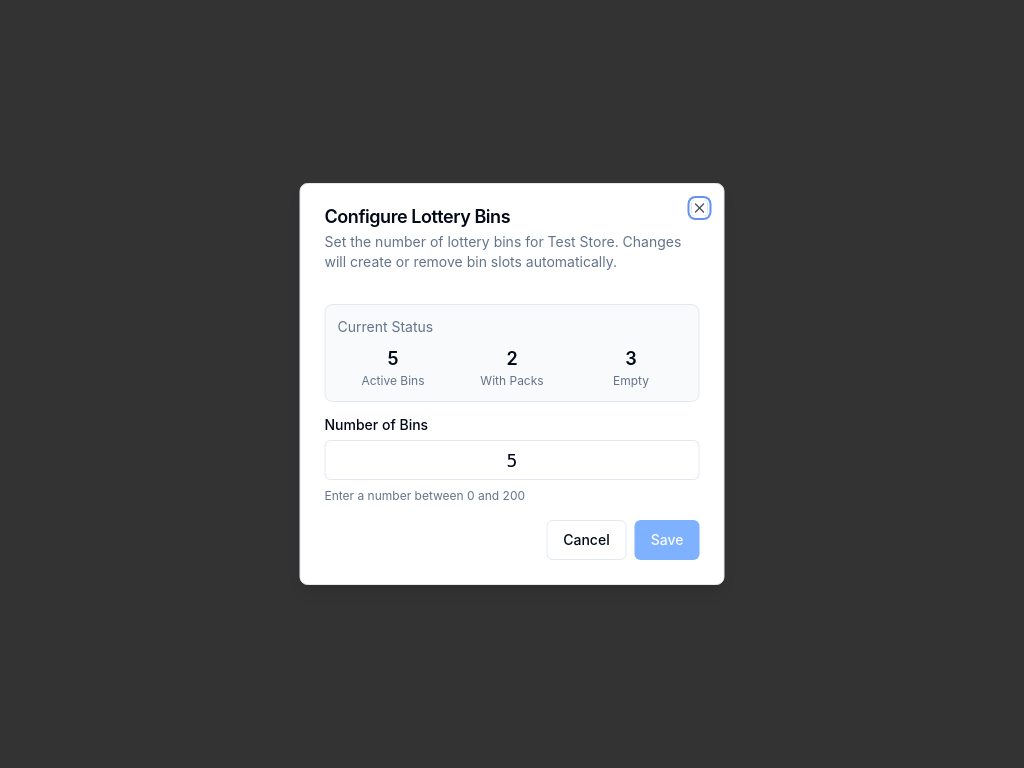
BinCountModal › Real-time Validation › should display success validation result when allowed
Replace the text in the field with test id "bin-count-input" with "10": (512, 460) [324, 440, 700, 480]
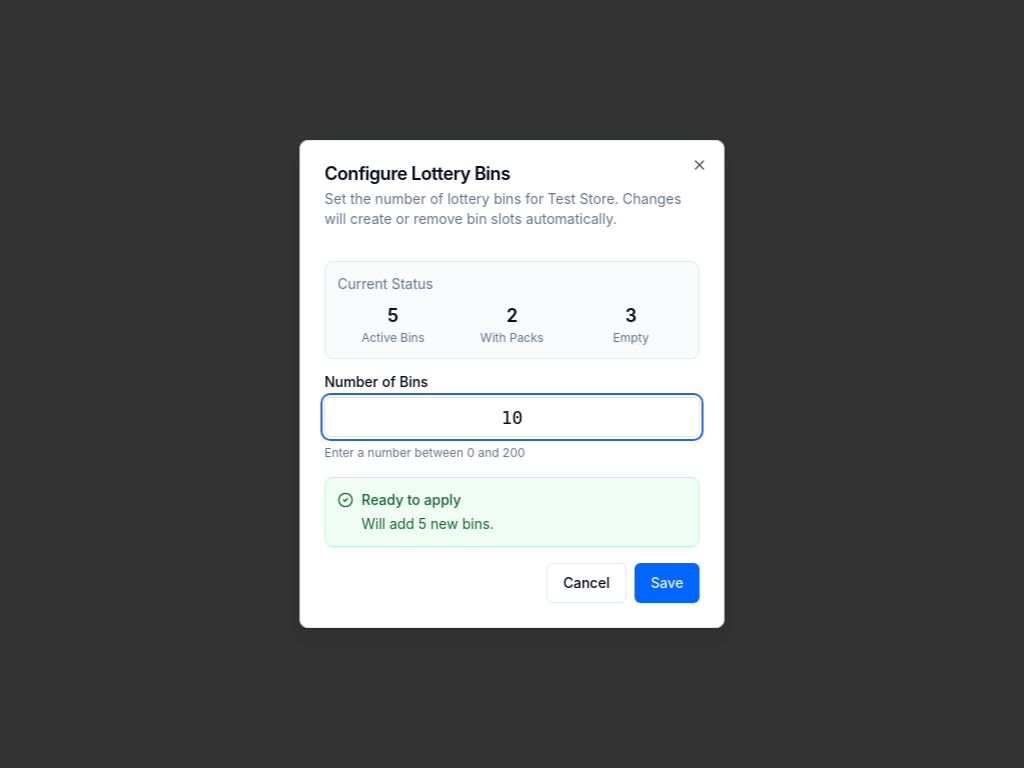
Expected: the element with test id "validation-result" is shown, [324, 477, 700, 547]
Expected: the text "Ready to apply" is shown, [362, 491, 461, 508]
